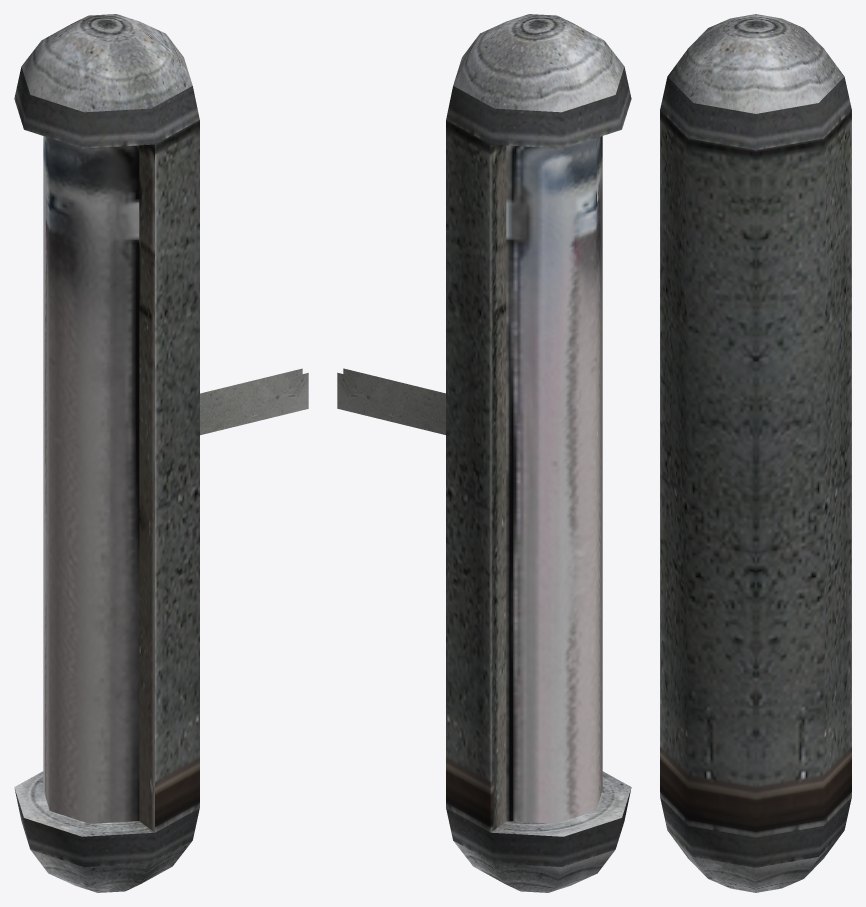
Rendered from LIT_VerticalSmall.FBX.
The picture shows the model from 3 angles, left to right: view 1: azimuth 30°, elevation 25°; view 2: azimuth 150°, elevation 25°; view 3: azimuth 270°, elevation 25°; orthographic projection.
Parts seen in each view (by area): view 1: LIT_VerticalSmall; view 2: LIT_VerticalSmall; view 3: LIT_VerticalSmall.
Boxes of the visible parts, left/top/right/bottom form: LIT_VerticalSmall: left=14, top=14, right=308, bottom=892; LIT_VerticalSmall: left=337, top=14, right=631, bottom=892; LIT_VerticalSmall: left=660, top=14, right=851, bottom=892.
Size of the model in its own units: 16.94 by 49.54 by 10.
